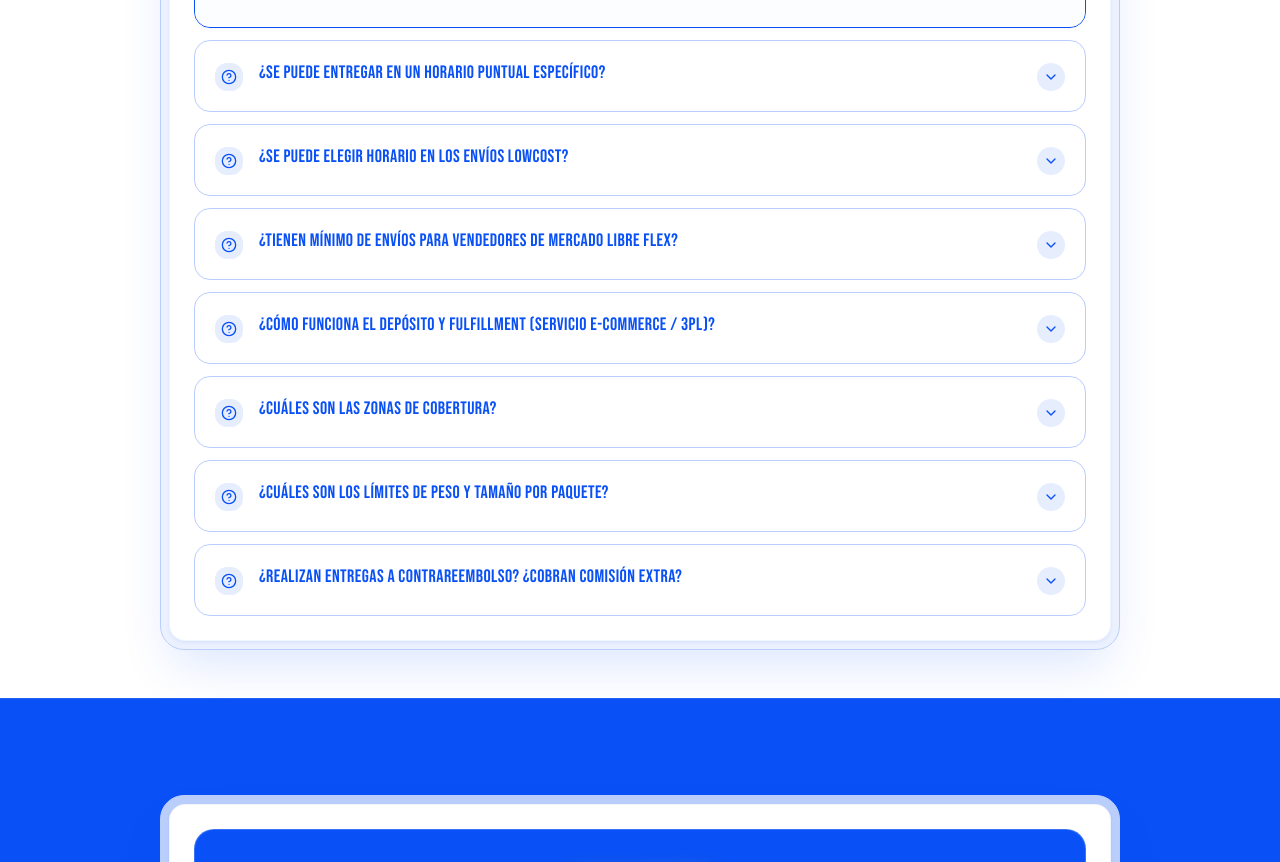
PreguntasFrecuentesPage — Tier 1 & 2 › T1.4: expande una pregunta al hacer clic y muestra su respuesta correspondiente
(page scrolled)
Click the button "¿Cuáles son las zonas de cobertura?": coordinates (378, 409) [195,377,1085,447]
(page scrolled)
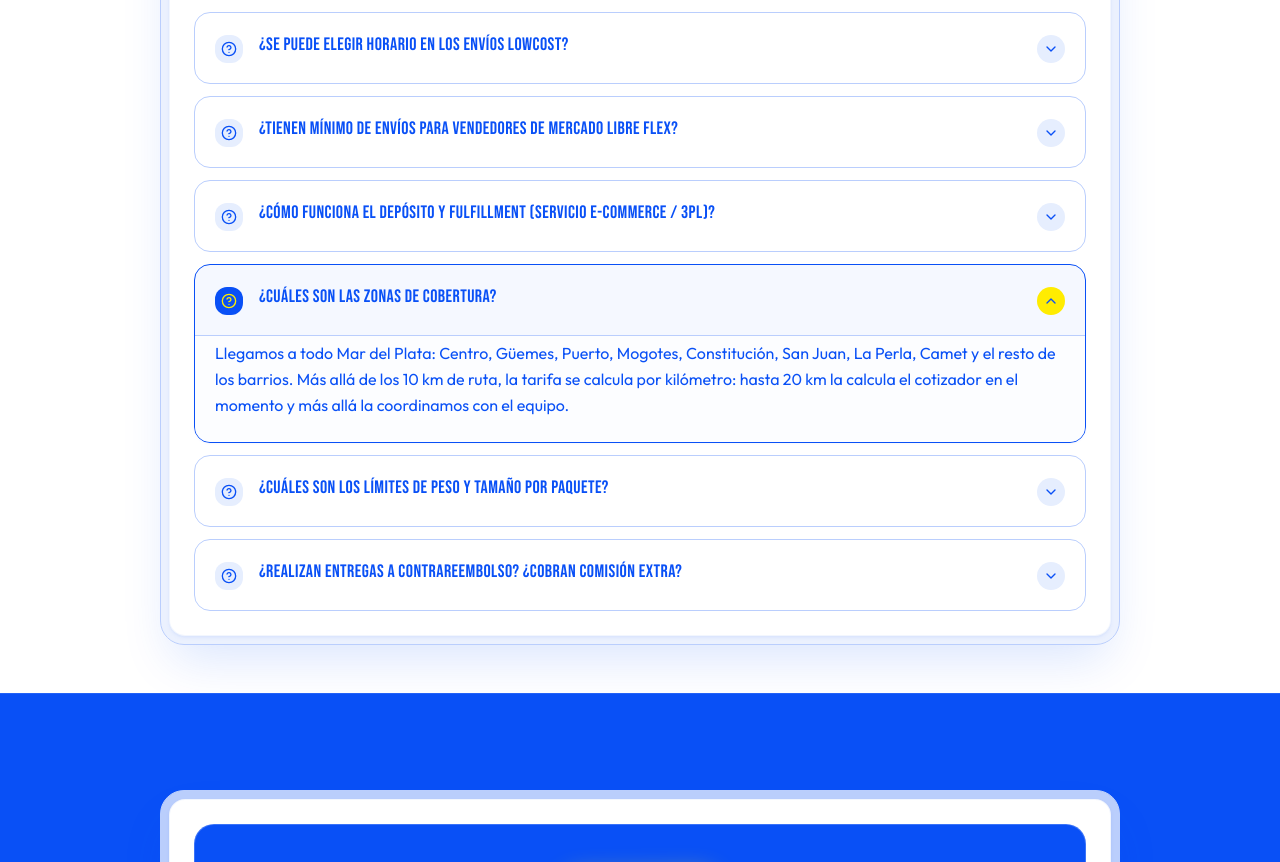
expect the text "Llegamos a todo Mar del Plata" is shown: met, box [215,343,1056,415]
